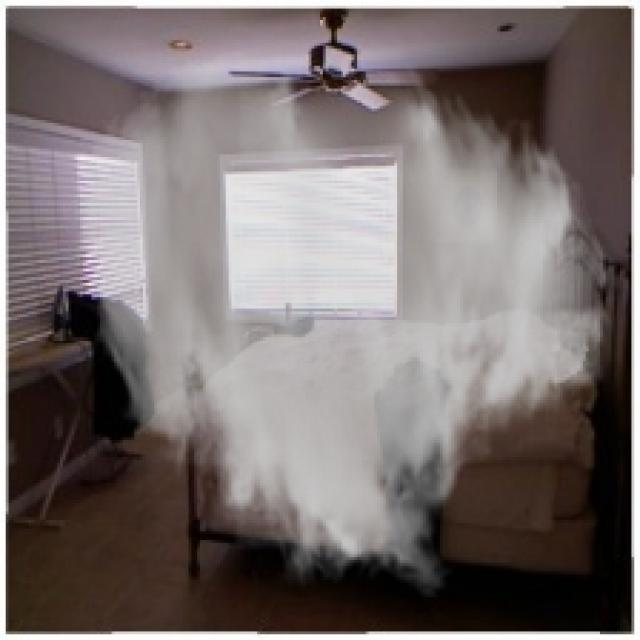smoke: (69, 46, 614, 600)
